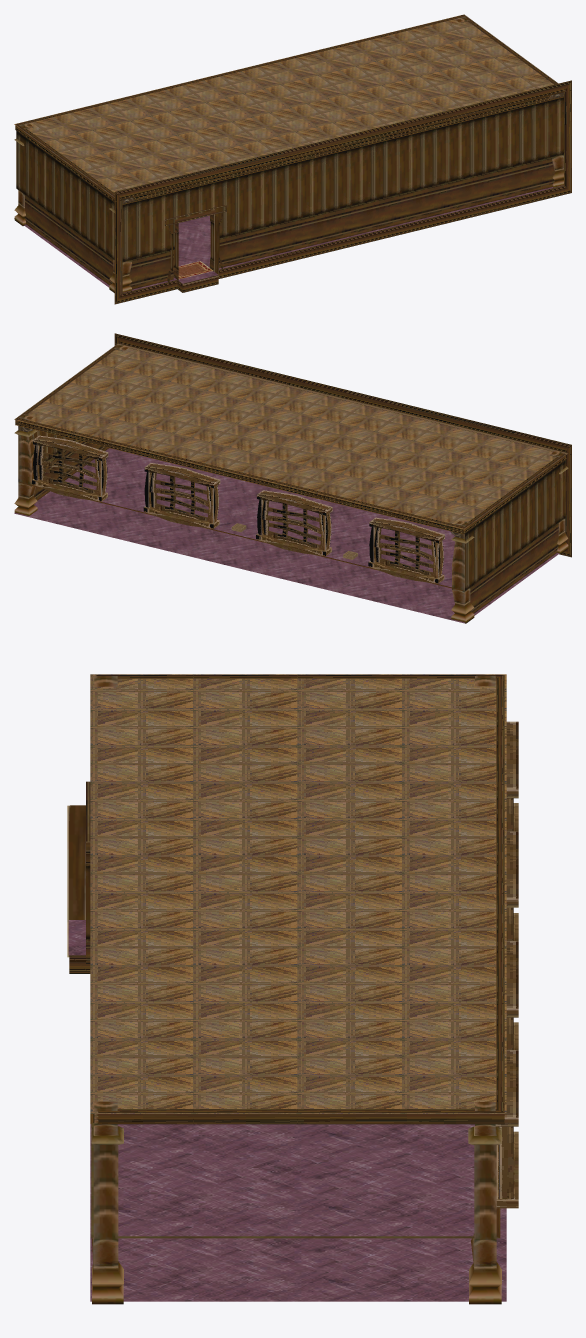
File: room_21.glb
3 views of the same model, one above another, from view 1: azimuth 30°, elevation 25°; view 2: azimuth 150°, elevation 25°; view 3: azimuth 270°, elevation 25° (orthographic). The views are drawn at different scales.
Visible parts, largest first — view 1: room_21; view 2: room_21; view 3: room_21.
Part boxes in pixels (x1=…): room_21: x1=14, y1=14, x2=571, y2=304; room_21: x1=14, y1=333, x2=571, y2=623; room_21: x1=67, y1=674, x2=518, y2=1304.
Bounding box in the file's own units: 2550 × 600 × 1089.
22 materials, 22 textured.
